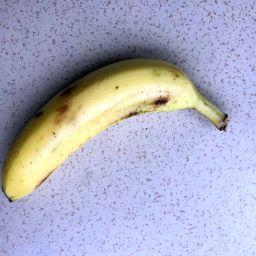Banana Ripe: (2, 50, 237, 206)
